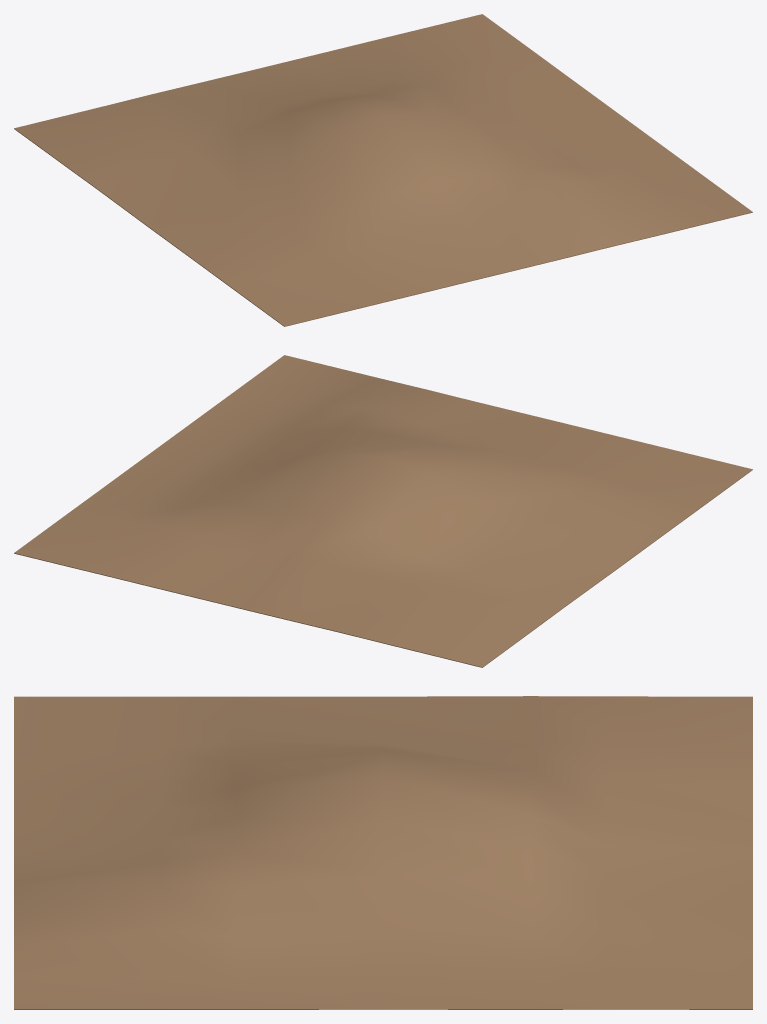
Rendered from O_Interactive_SandPile.fbx.
The picture shows the model from 3 angles, top to bottom: view 1: azimuth 30°, elevation 25°; view 2: azimuth 150°, elevation 25°; view 3: azimuth 270°, elevation 25°; orthographic projection. The views are drawn at different scales.
Parts seen in each view (by area): view 1: pCube2; view 2: pCube2; view 3: pCube2.
Boxes of the visible parts, bbox=[...] form: pCube2: bbox=[14, 14, 752, 326]; pCube2: bbox=[14, 355, 752, 667]; pCube2: bbox=[14, 696, 752, 1009].
Size of the model in its own units: 1.99 by 0.2252 by 1.99.
